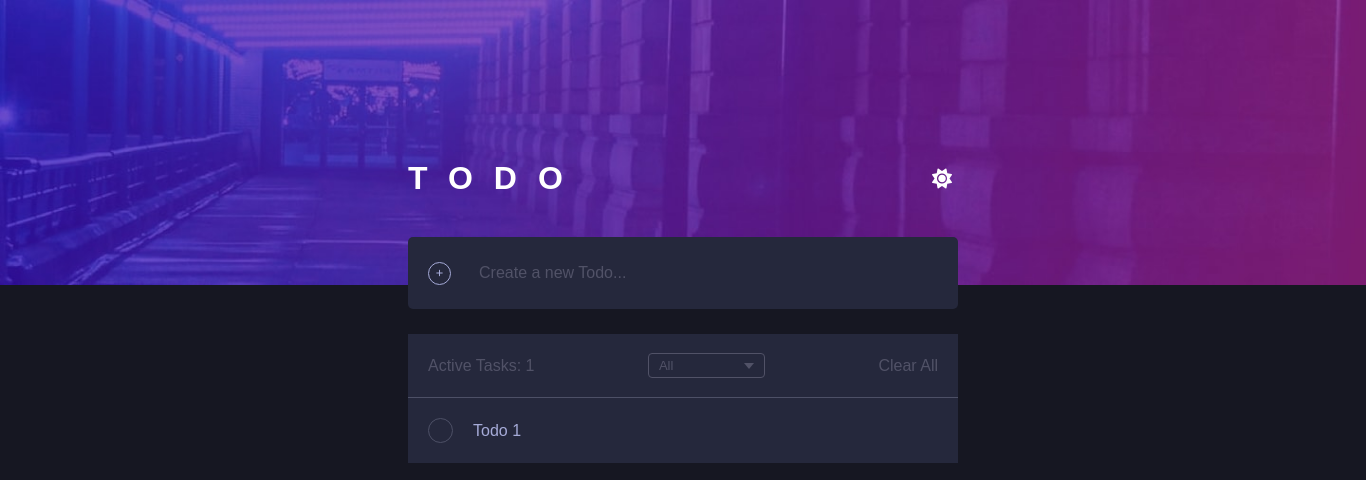
Test case: clear all › resets active tasks count to 0
Click the text "Clear All": (908, 365) [878, 356, 938, 374]
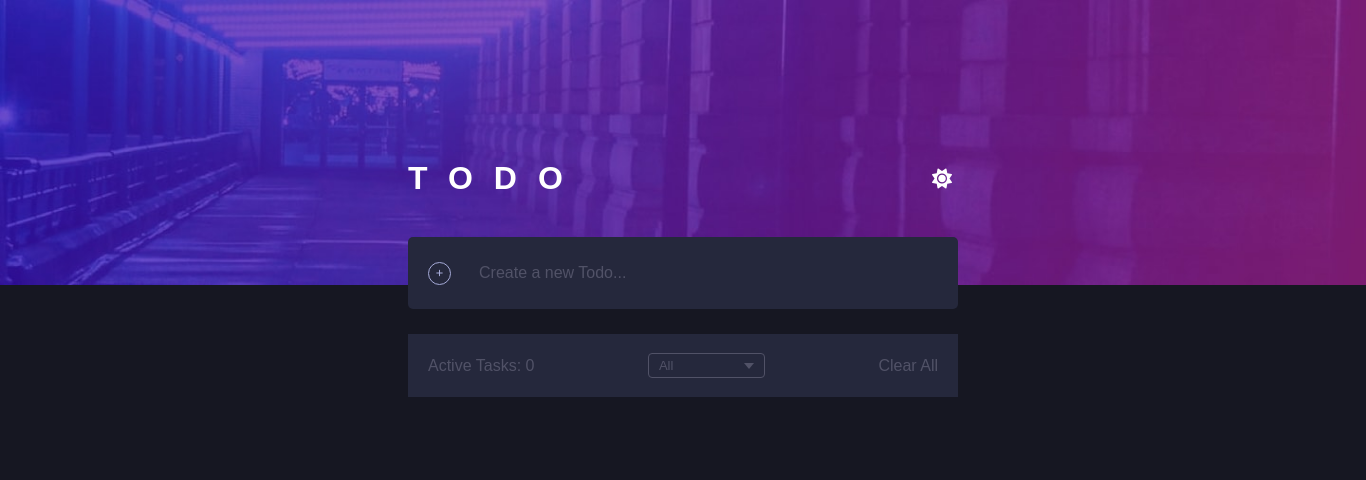
Expected: the text "Active Tasks: 0" is shown, [428, 356, 534, 374]
